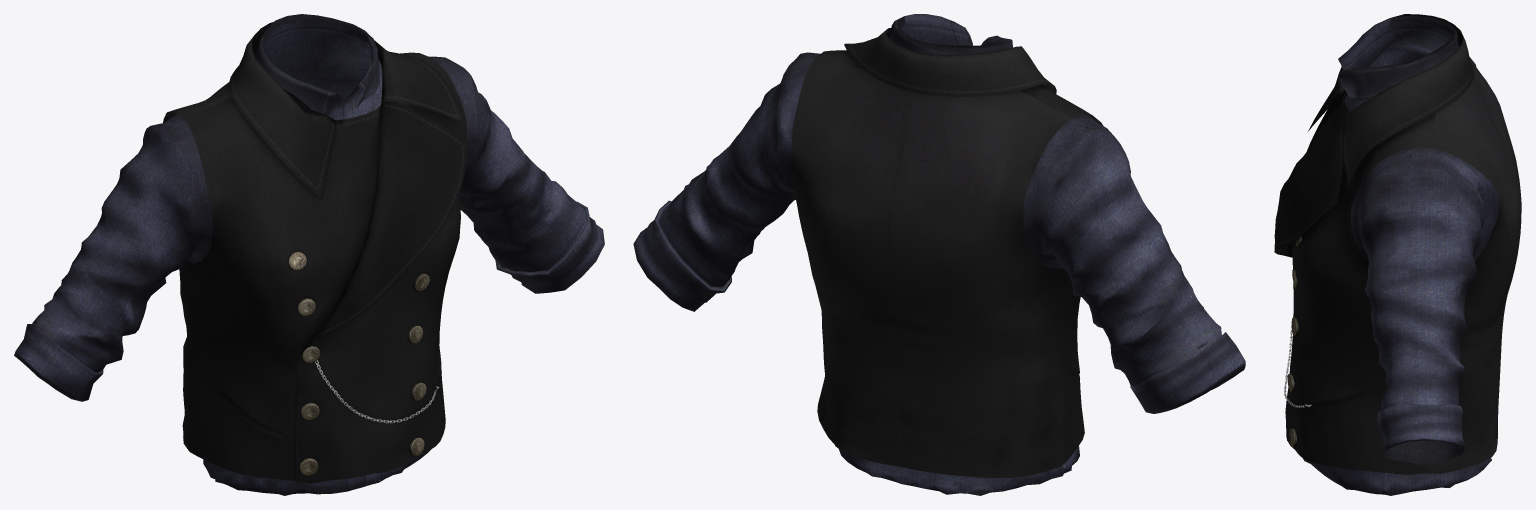
File: 4 mens-pinkerton-vest-shirt-combo.glb
3 views of the same model, side by side, from view 1: azimuth 30°, elevation 25°; view 2: azimuth 150°, elevation 25°; view 3: azimuth 270°, elevation 25° (orthographic). The views are drawn at different scales.
Parts seen in each view (by area): view 1: PinkertonVest, Shirt; view 2: PinkertonVest, Shirt; view 3: PinkertonVest, Shirt.
Part boxes in pixels (x1,y1,x2,y2): PinkertonVest: (163, 22, 467, 482); Shirt: (14, 14, 604, 495); PinkertonVest: (791, 28, 1103, 477); Shirt: (633, 14, 1245, 495); PinkertonVest: (1274, 14, 1521, 474); Shirt: (1303, 16, 1498, 495).
Bounding box in the file's own units: 0.8514 × 0.5852 × 0.3163.
4 materials, 4 textured.
